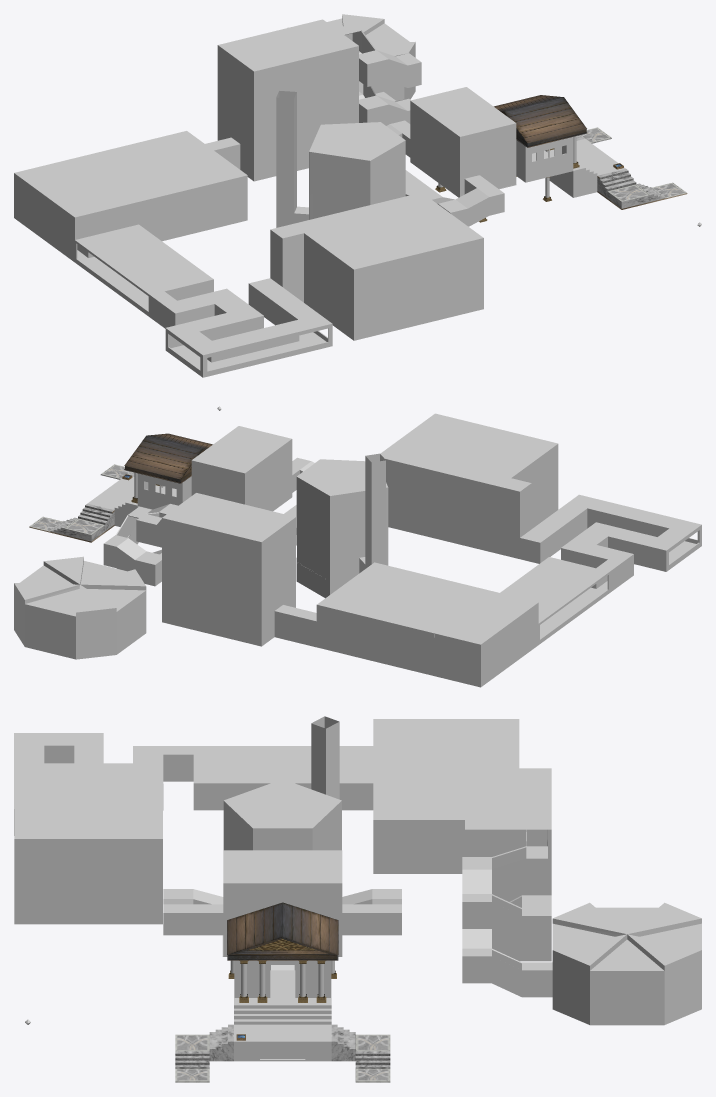
The model's file is museo_2.0.fbx.
3 views of the same model, one above another, from view 1: azimuth 30°, elevation 25°; view 2: azimuth 150°, elevation 25°; view 3: azimuth 270°, elevation 25° (orthographic). The views are drawn at different scales.
Visible parts, largest first — view 1: Cube.031, Cube.020, Cube.032, Cube.042, Cube.027, Cube.012, Cube.044, Cube.011, Cube.002, Cube.037, Cube.039; view 2: Cube.031, Cube.020, Cube.032, Cube.042, Cube.027, Cube.012, Cube.044, Cube.003, Cube.011, Cube.039; view 3: Cube.031, Cube.020, Cube.032, Cube.011, Cube.027, Cube.042, Cube.044, Cube.003, Cube.002, Cube.012, Cube.021.
Boxes of the visible parts, <box> form: Cube.031: <box>14,14,483,377</box>; Cube.020: <box>309,87,573,226</box>; Cube.032: <box>304,260,483,340</box>; Cube.042: <box>219,19,357,71</box>; Cube.027: <box>494,95,587,147</box>; Cube.012: <box>276,91,308,227</box>; Cube.044: <box>309,122,405,160</box>; Cube.011: <box>547,139,625,197</box>; Cube.002: <box>597,169,687,209</box>; Cube.037: <box>171,332,326,375</box>; Cube.039: <box>80,257,148,310</box>; Cube.031: <box>14,413,701,687</box>; Cube.020: <box>137,426,388,598</box>; Cube.032: <box>387,469,558,552</box>; Cube.042: <box>163,493,294,541</box>; Cube.027: <box>124,433,212,483</box>; Cube.012: <box>359,453,385,573</box>; Cube.044: <box>297,459,387,495</box>; Cube.003: <box>29,503,114,542</box>; Cube.011: <box>88,477,161,526</box>; Cube.039: <box>540,587,604,638</box>; Cube.031: <box>14,719,701,1025</box>; Cube.020: <box>163,801,401,997</box>; Cube.032: <box>14,872,162,922</box>; Cube.011: <box>234,998,331,1061</box>; Cube.027: <box>227,902,338,960</box>; Cube.042: <box>465,768,551,829</box>; Cube.044: <box>224,779,341,828</box>; Cube.003: <box>331,1024,390,1082</box>; Cube.002: <box>175,1024,233,1082</box>; Cube.012: <box>311,716,339,799</box>; Cube.021: <box>270,970,295,997</box>.
Bounding box in the file's own units: 25513 × 6878 × 23010.
